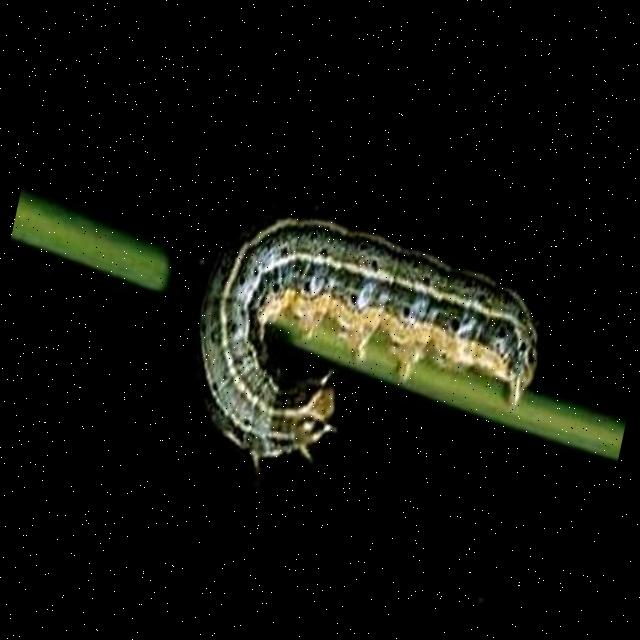worm: (169, 197, 559, 526)
